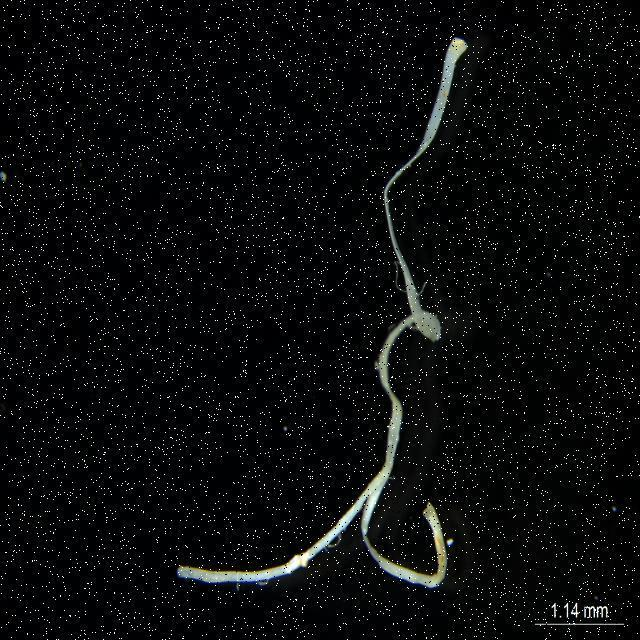fiber: (173, 35, 478, 592)
